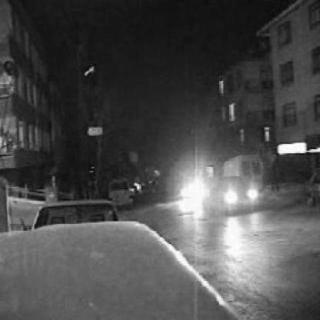other: (171, 173, 265, 221)
